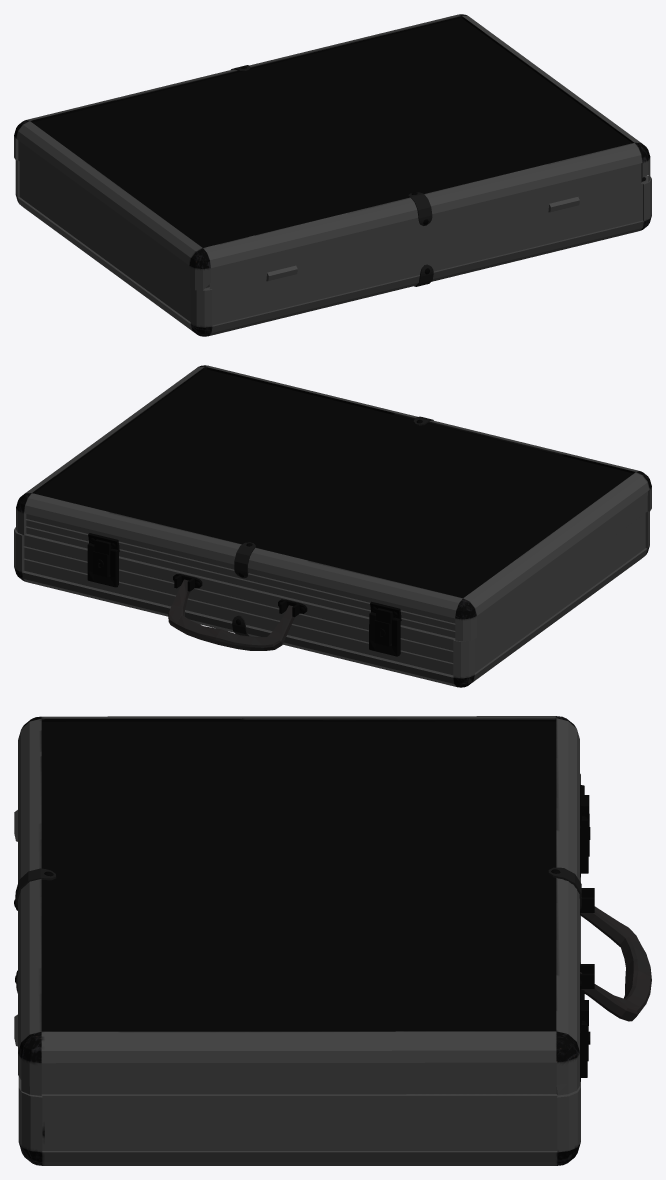
File: suitcase.glb
The picture shows the model from 3 angles, top to bottom: view 1: azimuth 30°, elevation 25°; view 2: azimuth 150°, elevation 25°; view 3: azimuth 270°, elevation 25°; orthographic projection. The views are drawn at different scales.
Visible parts, largest first — view 1: lid, bottom; view 2: lid, bottom; view 3: lid, bottom.
Boxes of the visible parts, box(x1,y1,x2,y2) form: lid: box(14, 14, 650, 290); bottom: box(15, 160, 651, 336); lid: box(16, 365, 651, 656); bottom: box(14, 511, 649, 687); lid: box(14, 716, 589, 1095); bottom: box(14, 773, 651, 1165).
Bounding box in the file's own units: 45.18 × 8.64 × 36.43.
Materials: 1 (1 with a texture image).
